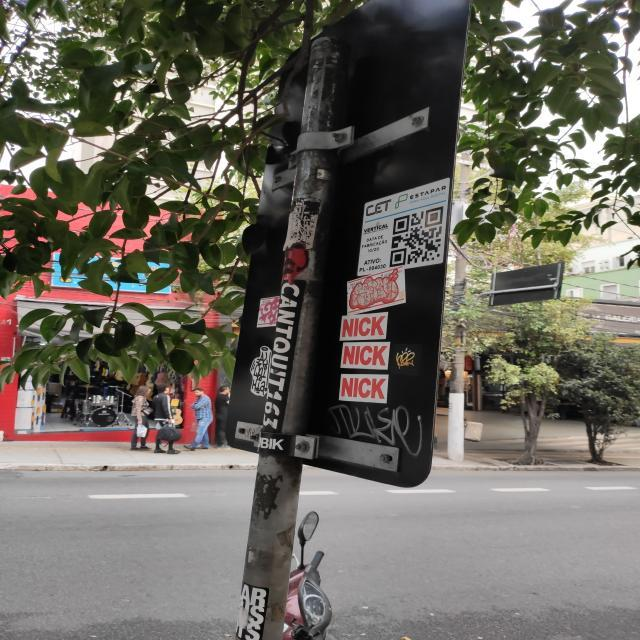qr-code: (390, 206, 443, 268)
